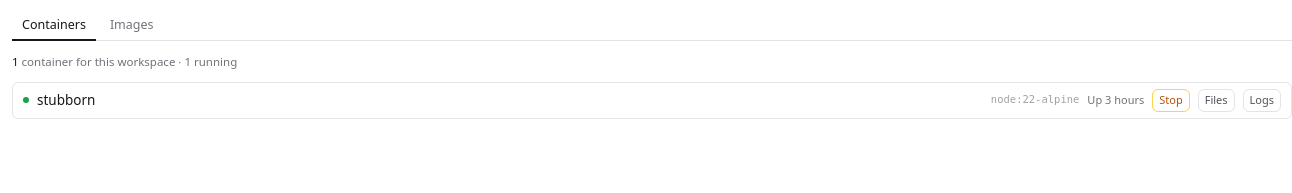
Scenario: AC-7 — the row shows what IS, not what was asked › takes the state from the response, even when it is not the one requested
The width and height of the screenshot is (1292, 193).
Click the button with test id "docker-act-stubborn" at (1171, 100), box [1152,89,1190,112]
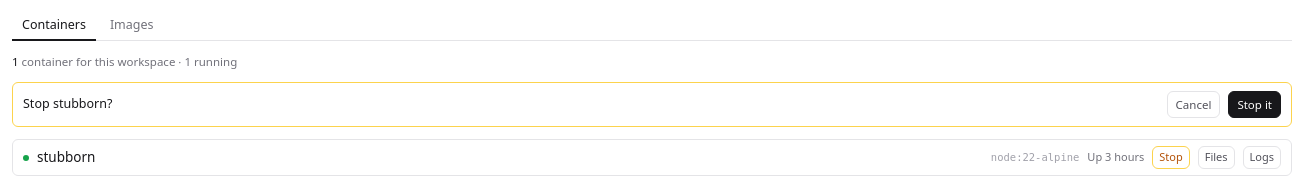
Click the button with test id "docker-confirm-go" at (1255, 105), box [1228,91,1281,118]
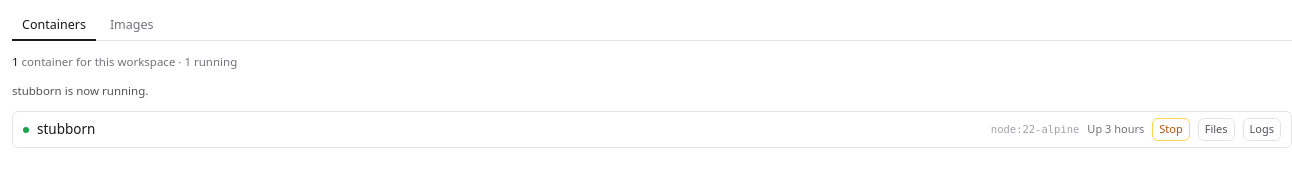
Now the text with test id "docker-action-note" shows "now running", box [12,83,148,98]
